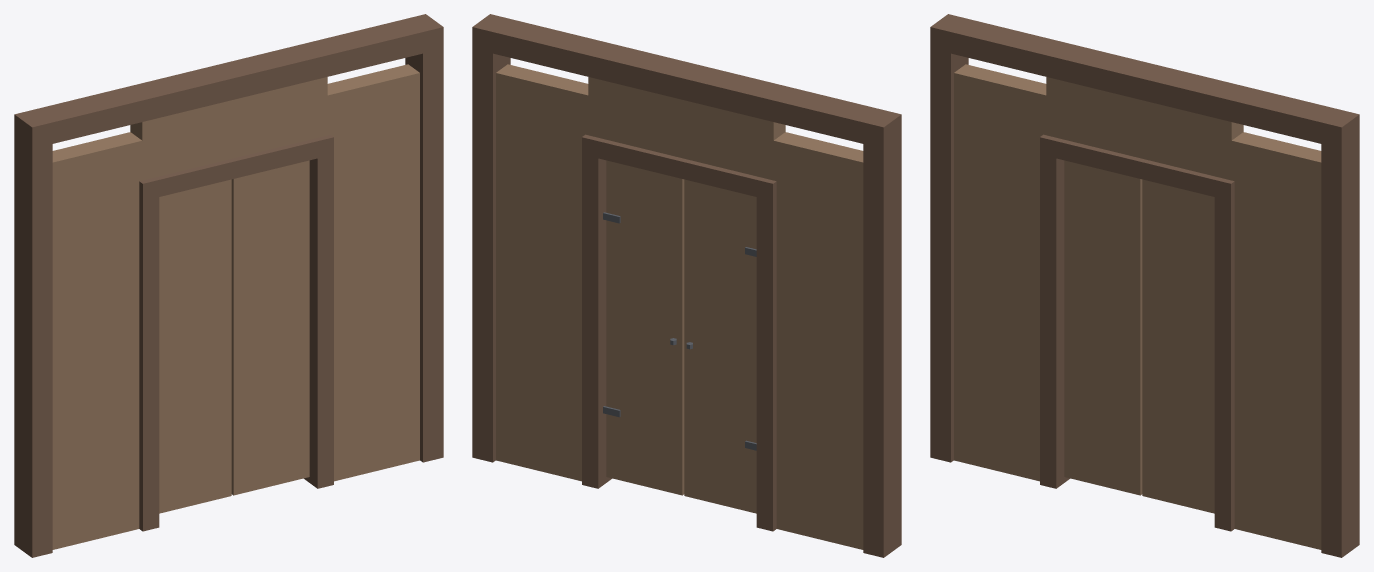
File: haunted_wall_doordouble.glb
The picture shows the model from 3 angles, left to right: view 1: azimuth 30°, elevation 25°; view 2: azimuth 150°, elevation 25°; view 3: azimuth 330°, elevation 25°; orthographic projection.
Parts seen in each view (by area): view 1: Haunted_Wall_DoorDouble; view 2: Haunted_Wall_DoorDouble; view 3: Haunted_Wall_DoorDouble.
Boxes of the visible parts, <box> form: Haunted_Wall_DoorDouble: <box>14,14,443,557</box>; Haunted_Wall_DoorDouble: <box>472,14,901,557</box>; Haunted_Wall_DoorDouble: <box>930,14,1359,557</box>.
Bounding box in the file's own units: 4 × 4 × 0.32.
